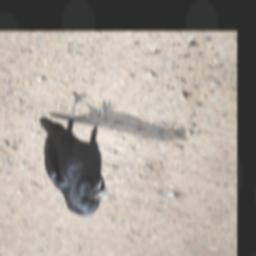Crow: (27, 86, 120, 219)
